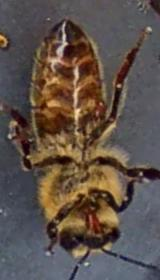varroa_mite: (90, 94, 106, 121)
